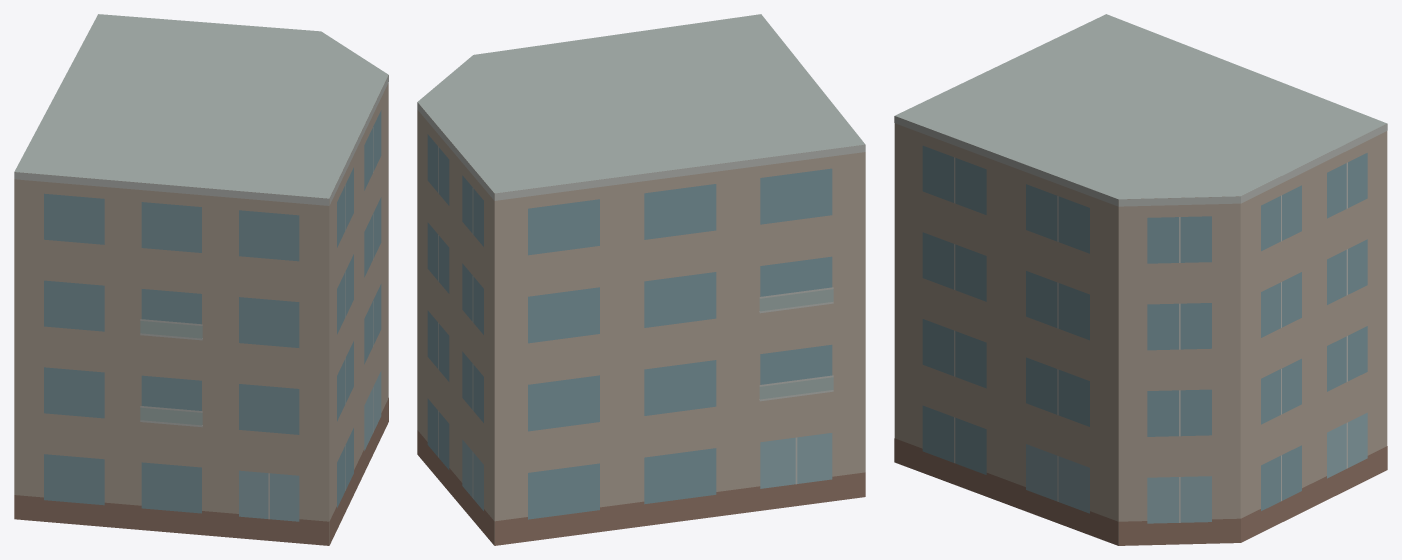
File: survey-upis-32903452.glb
3 views of the same model, side by side, from view 1: azimuth 30°, elevation 25°; view 2: azimuth 150°, elevation 25°; view 3: azimuth 270°, elevation 25° (orthographic).
Parts seen in each view (by area): view 1: survey-upis-32903452.tmp; view 2: survey-upis-32903452.tmp; view 3: survey-upis-32903452.tmp.
Boxes of the visible parts, x1,y1,x2,y2 form: survey-upis-32903452.tmp: (14, 14, 388, 545); survey-upis-32903452.tmp: (417, 14, 865, 545); survey-upis-32903452.tmp: (894, 14, 1387, 545).
Bounding box in the file's own units: 13.31 × 11.6 × 14.96.
